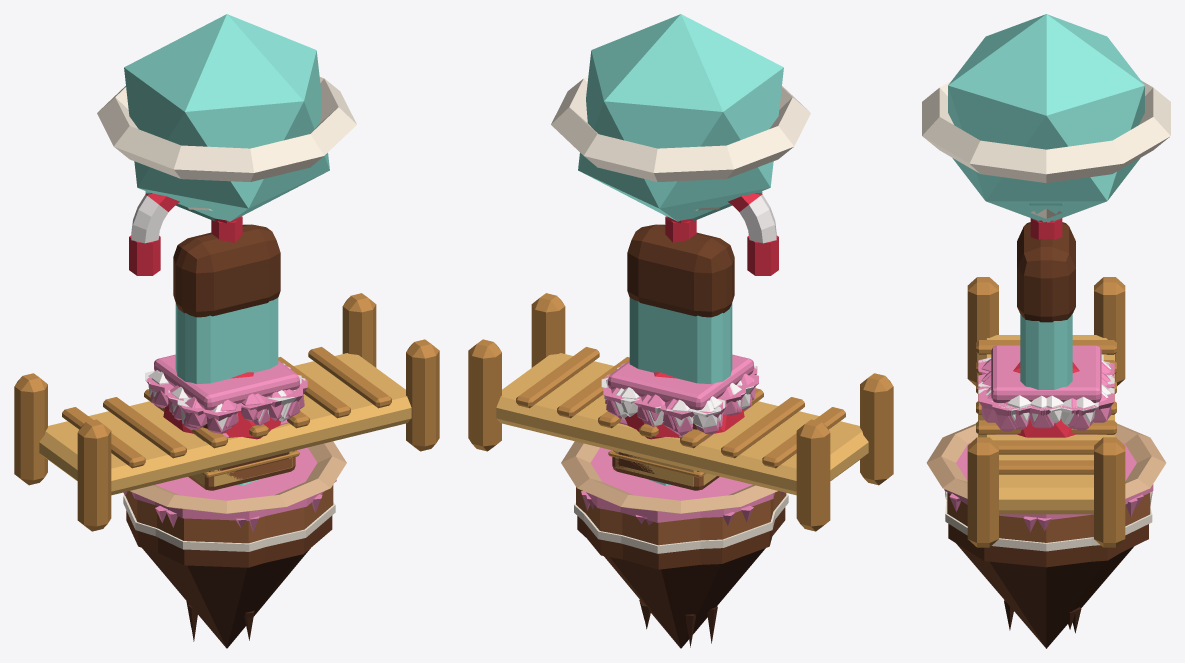
The model's file is choco_kit.glb.
3 views of the same model, side by side, from view 1: azimuth 30°, elevation 25°; view 2: azimuth 150°, elevation 25°; view 3: azimuth 270°, elevation 25° (orthographic).
Parts seen in each view (by area): view 1: LolliTree_mint, Bridge, Popsicle_mint, Platform_a, Platform_b, Cube_choco_pink_a, FoamRing, Cane, Cube_sponge_pink_b, Step_biscuit, Cherry, Step_wafer (+3 smaller); view 2: LolliTree_mint, Bridge, Popsicle_mint, Platform_a, Platform_b, FoamRing, Cube_choco_pink_a, Cane, Step_wafer, Cube_sponge_pink_b, Cube_sponge_white_a, Cube_choco_white_a (+3 smaller); view 3: LolliTree_mint, Bridge, Platform_a, Popsicle_mint, Cube_choco_pink_a, FoamRing, Platform_b, Cube_sponge_white_a, Cube_sponge_pink_b, Cube_choco_pink_b, Cube_choco_white_a, Cherry (+3 smaller).
Part boxes in pixels (x1=…): LolliTree_mint: x1=97, y1=14, x2=356, y2=221; Bridge: x1=14, y1=293, x2=439, y2=531; Popsicle_mint: x1=173, y1=224, x2=280, y2=384; Platform_a: x1=123, y1=447, x2=336, y2=648; Platform_b: x1=123, y1=448, x2=322, y2=626; Cube_choco_pink_a: x1=154, y1=354, x2=307, y2=463; FoamRing: x1=130, y1=441, x2=346, y2=513; Cane: x1=129, y1=193, x2=242, y2=275; Cube_sponge_pink_b: x1=146, y1=366, x2=306, y2=430; Step_biscuit: x1=188, y1=457, x2=295, y2=490; Cherry: x1=163, y1=372, x2=281, y2=439; Step_wafer: x1=191, y1=450, x2=299, y2=486; LolliTree_mint: x1=551, y1=14, x2=810, y2=221; Bridge: x1=468, y1=293, x2=893, y2=531; Popsicle_mint: x1=627, y1=224, x2=734, y2=384; Platform_a: x1=577, y1=448, x2=775, y2=648; Platform_b: x1=574, y1=447, x2=788, y2=647; FoamRing: x1=561, y1=441, x2=777, y2=513; Cube_choco_pink_a: x1=608, y1=354, x2=755, y2=429; Cane: x1=665, y1=193, x2=778, y2=275; Step_wafer: x1=608, y1=450, x2=716, y2=486; Cube_sponge_pink_b: x1=605, y1=364, x2=755, y2=435; Cube_sponge_white_a: x1=601, y1=367, x2=753, y2=426; Cube_choco_white_a: x1=607, y1=365, x2=756, y2=428; LolliTree_mint: x1=922, y1=14, x2=1170, y2=220; Bridge: x1=967, y1=277, x2=1125, y2=547; Platform_a: x1=944, y1=464, x2=1153, y2=648; Popsicle_mint: x1=1017, y1=222, x2=1075, y2=389; Cube_choco_pink_a: x1=978, y1=345, x2=1114, y2=431; FoamRing: x1=926, y1=423, x2=1166, y2=498; Platform_b: x1=945, y1=442, x2=1152, y2=633; Cube_sponge_white_a: x1=978, y1=359, x2=1114, y2=422; Cube_sponge_pink_b: x1=978, y1=359, x2=1114, y2=429; Cube_choco_pink_b: x1=978, y1=357, x2=1114, y2=429; Cube_choco_white_a: x1=978, y1=354, x2=1114, y2=429; Cherry: x1=1013, y1=362, x2=1079, y2=437.
Size of the model in its own units: 3.9 by 6.65 by 2.36.
